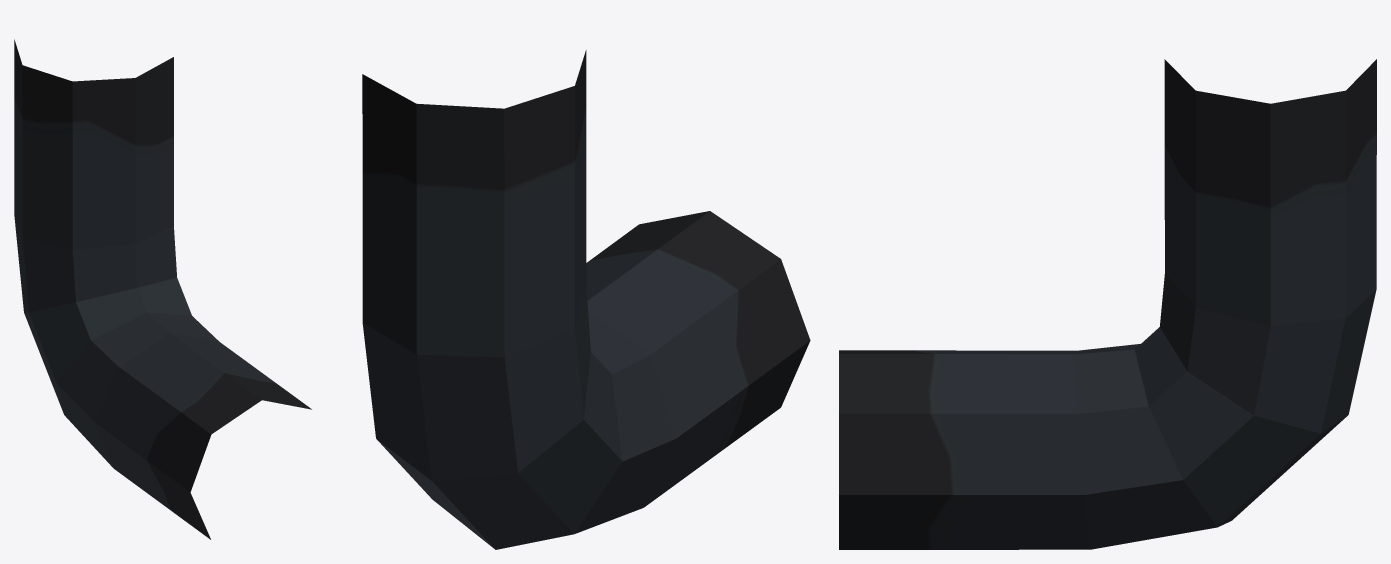
File: SM_Stove_Pipe_B_02.gltf
3 views of the same model, side by side, from view 1: azimuth 30°, elevation 25°; view 2: azimuth 150°, elevation 25°; view 3: azimuth 270°, elevation 25° (orthographic). The views are drawn at different scales.
Visible parts, largest first — view 1: SM_Stove_Pipe_B_02; view 2: SM_Stove_Pipe_B_02; view 3: SM_Stove_Pipe_B_02.
Boxes of the visible parts, <box> form: SM_Stove_Pipe_B_02: <box>14,39,311,539</box>; SM_Stove_Pipe_B_02: <box>362,50,810,549</box>; SM_Stove_Pipe_B_02: <box>839,59,1376,549</box>.
Bounding box in the file's own units: 0.246 × 0.623 × 0.623.
Materials: 1 (1 with a texture image).
